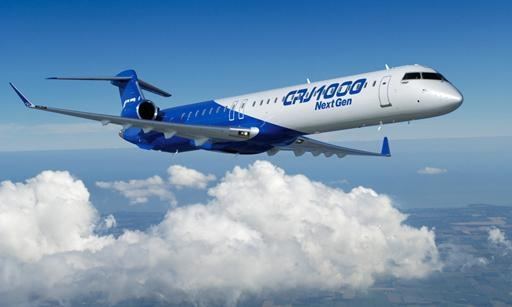airplane: (8, 62, 464, 161)
